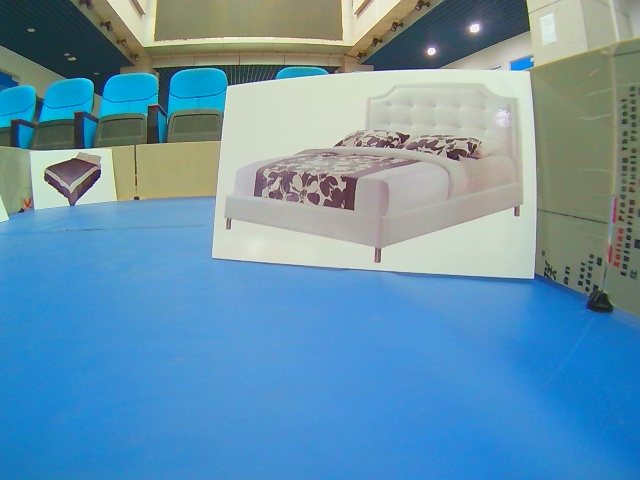bed: (226, 85, 534, 277), (30, 151, 116, 202)
